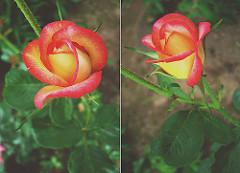Rose: (16, 17, 109, 108), (137, 11, 213, 92)
